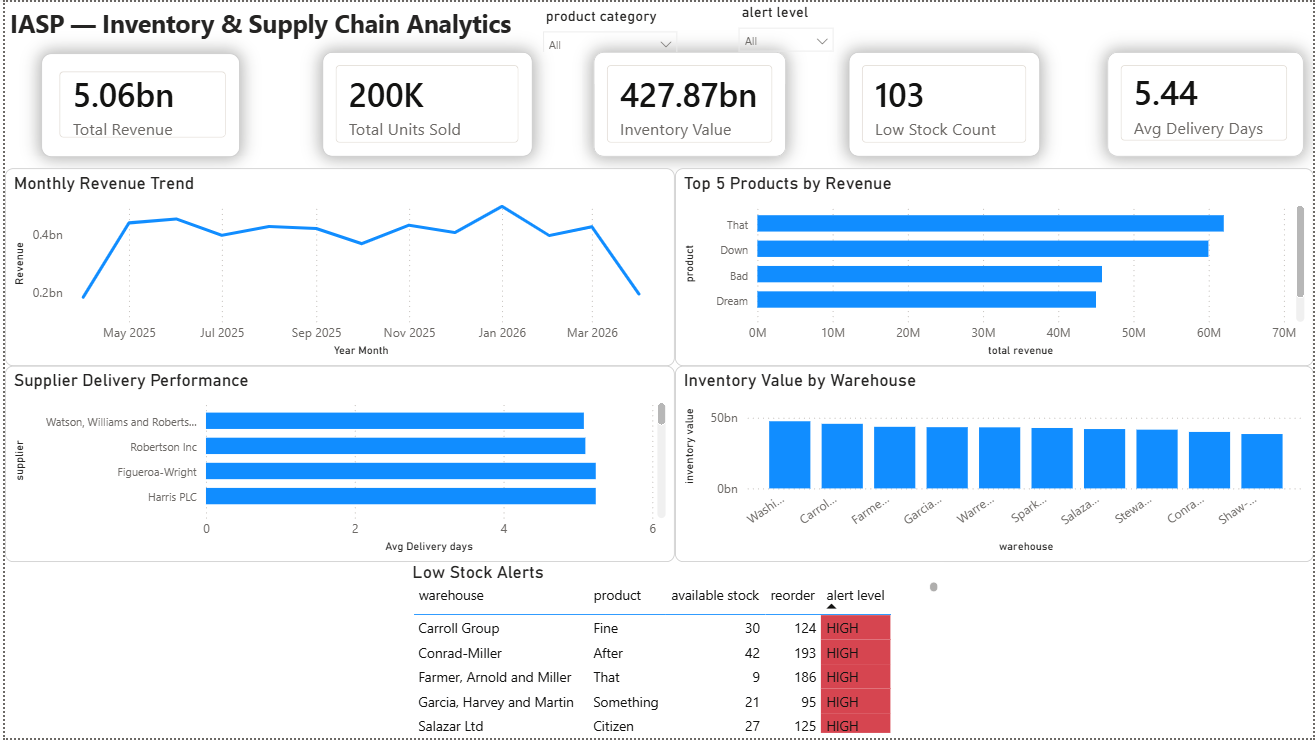

Layout of this report page (visuals, bound fields, positions):
{"tool":"powerbi","page":{"name":"Executive Dashboard","canvas":[1280,720],"ordinal":0},"visuals":[{"type":"cardVisual","fields":{"Data":["inventory_snapshot.Total Revenue"]},"box":[35.5,50.1,194.4,101.5],"z":0},{"type":"cardVisual","fields":{"Data":["inventory_snapshot.Total Units Sold"]},"box":[310.6,48.9,205.4,102.7],"z":1000},{"type":"cardVisual","fields":{"Data":["inventory_snapshot.Average Delivery Days"]},"box":[1078.5,48.9,192,102.7],"z":2000},{"type":"cardVisual","fields":{"Data":["inventory_snapshot.Low Stock Count"]},"box":[825.4,48.9,187.1,102.7],"z":3000},{"type":"cardVisual","fields":{"Data":["inventory_snapshot.Inventory Value"]},"box":[576,48.9,188.3,102.7],"z":4000},{"type":"lineChart","title":"Monthly Revenue Trend","fields":{"Y":["Sum(sales_trend.monthly_revenue)"],"Category":["sales_trend.Year Month"]},"box":[0,162.6,655.4,193.2],"z":5000},{"type":"clusteredBarChart","title":"Top 5 Products by Revenue","fields":{"Category":["sales_summary.product_name"],"Y":["Sum(sales_summary.total_revenue)"]},"box":[655.4,162.6,624.9,193.2],"z":6000},{"type":"clusteredColumnChart","title":"Inventory Value by Warehouse","fields":{"Category":["inventory_snapshot.warehouse_name"],"Y":["Sum(inventory_snapshot.inventory_value)"]},"box":[655.4,355.8,624.9,192],"z":7000},{"type":"clusteredBarChart","title":"Supplier Delivery Performance","fields":{"Category":["supplier_performance.supplier_name"],"Y":["Sum(supplier_performance.avg_delay_days)"]},"box":[0,355.8,655.4,192],"z":8000},{"type":"tableEx","title":"Low Stock Alerts","fields":{"Values":["low_stock_alert.warehouse_name","low_stock_alert.product_name","low_stock_alert.available_stock","low_stock_alert.reorder_level","low_stock_alert.alert_level"]},"box":[393.8,547.8,524.6,172.4],"z":9000},{"type":"textbox","box":[0,0,503.8,48.9],"z":10000},{"type":"slicer","title":"Product Category","fields":{"Values":["inventory_snapshot.category"]},"box":[516,0,151.6,48.9],"z":11000},{"type":"slicer","title":"Alert level","fields":{"Values":["low_stock_alert.alert_level"]},"box":[712.9,1.2,102.7,48.9],"z":12000}]}

Visuals, with their boxes in screenshot pixels (x1, y1, x2, y2), scaled from the page's 1280x720 canvas onto the 1315x741 screenshot:
cardVisual - inventory_snapshot.Total Revenue: <bbox>36, 52, 236, 156</bbox>
cardVisual - inventory_snapshot.Total Units Sold: <bbox>319, 50, 530, 156</bbox>
cardVisual - inventory_snapshot.Average Delivery Days: <bbox>1108, 50, 1305, 156</bbox>
cardVisual - inventory_snapshot.Low Stock Count: <bbox>848, 50, 1040, 156</bbox>
cardVisual - inventory_snapshot.Inventory Value: <bbox>592, 50, 785, 156</bbox>
"Monthly Revenue Trend" lineChart: <bbox>0, 167, 673, 366</bbox>
"Top 5 Products by Revenue" clusteredBarChart: <bbox>673, 167, 1314, 366</bbox>
"Inventory Value by Warehouse" clusteredColumnChart: <bbox>673, 366, 1314, 564</bbox>
"Supplier Delivery Performance" clusteredBarChart: <bbox>0, 366, 673, 564</bbox>
"Low Stock Alerts" tableEx: <bbox>405, 564, 944, 740</bbox>
textbox: <bbox>0, 0, 518, 50</bbox>
"Product Category" slicer: <bbox>530, 0, 686, 50</bbox>
"Alert level" slicer: <bbox>732, 1, 838, 52</bbox>
